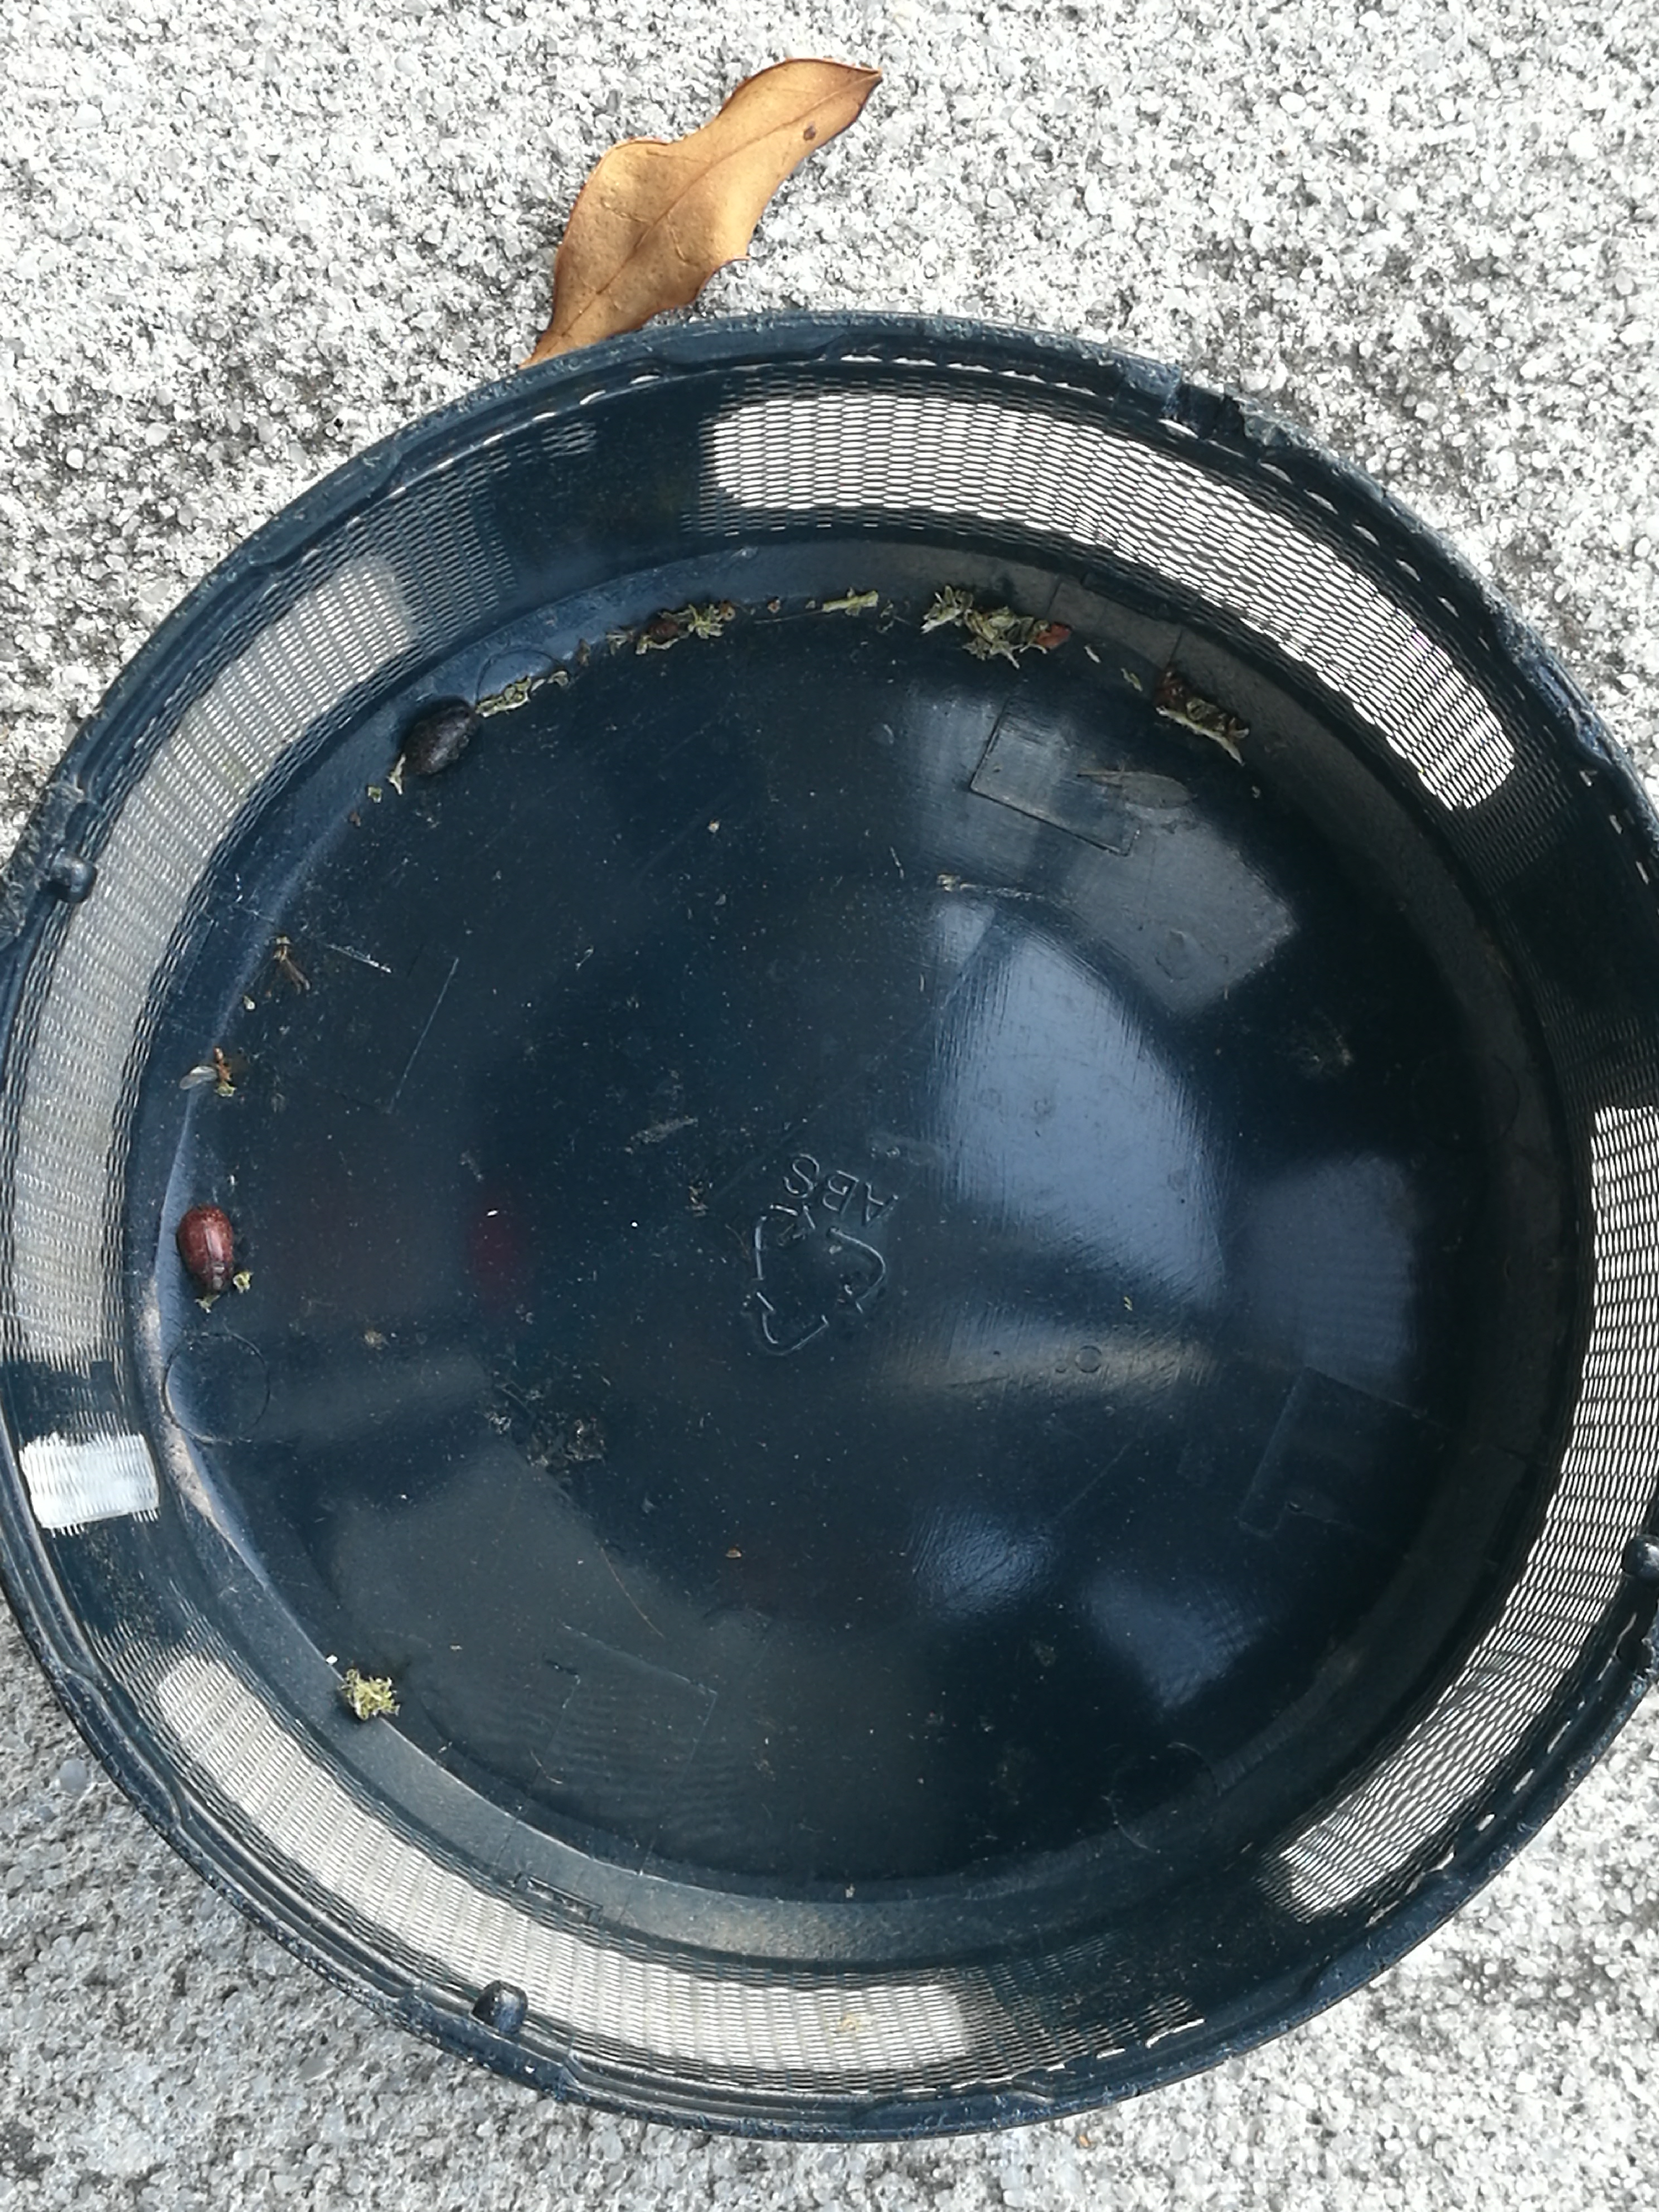beetle: (406, 705, 477, 775), (178, 1207, 234, 1294)
